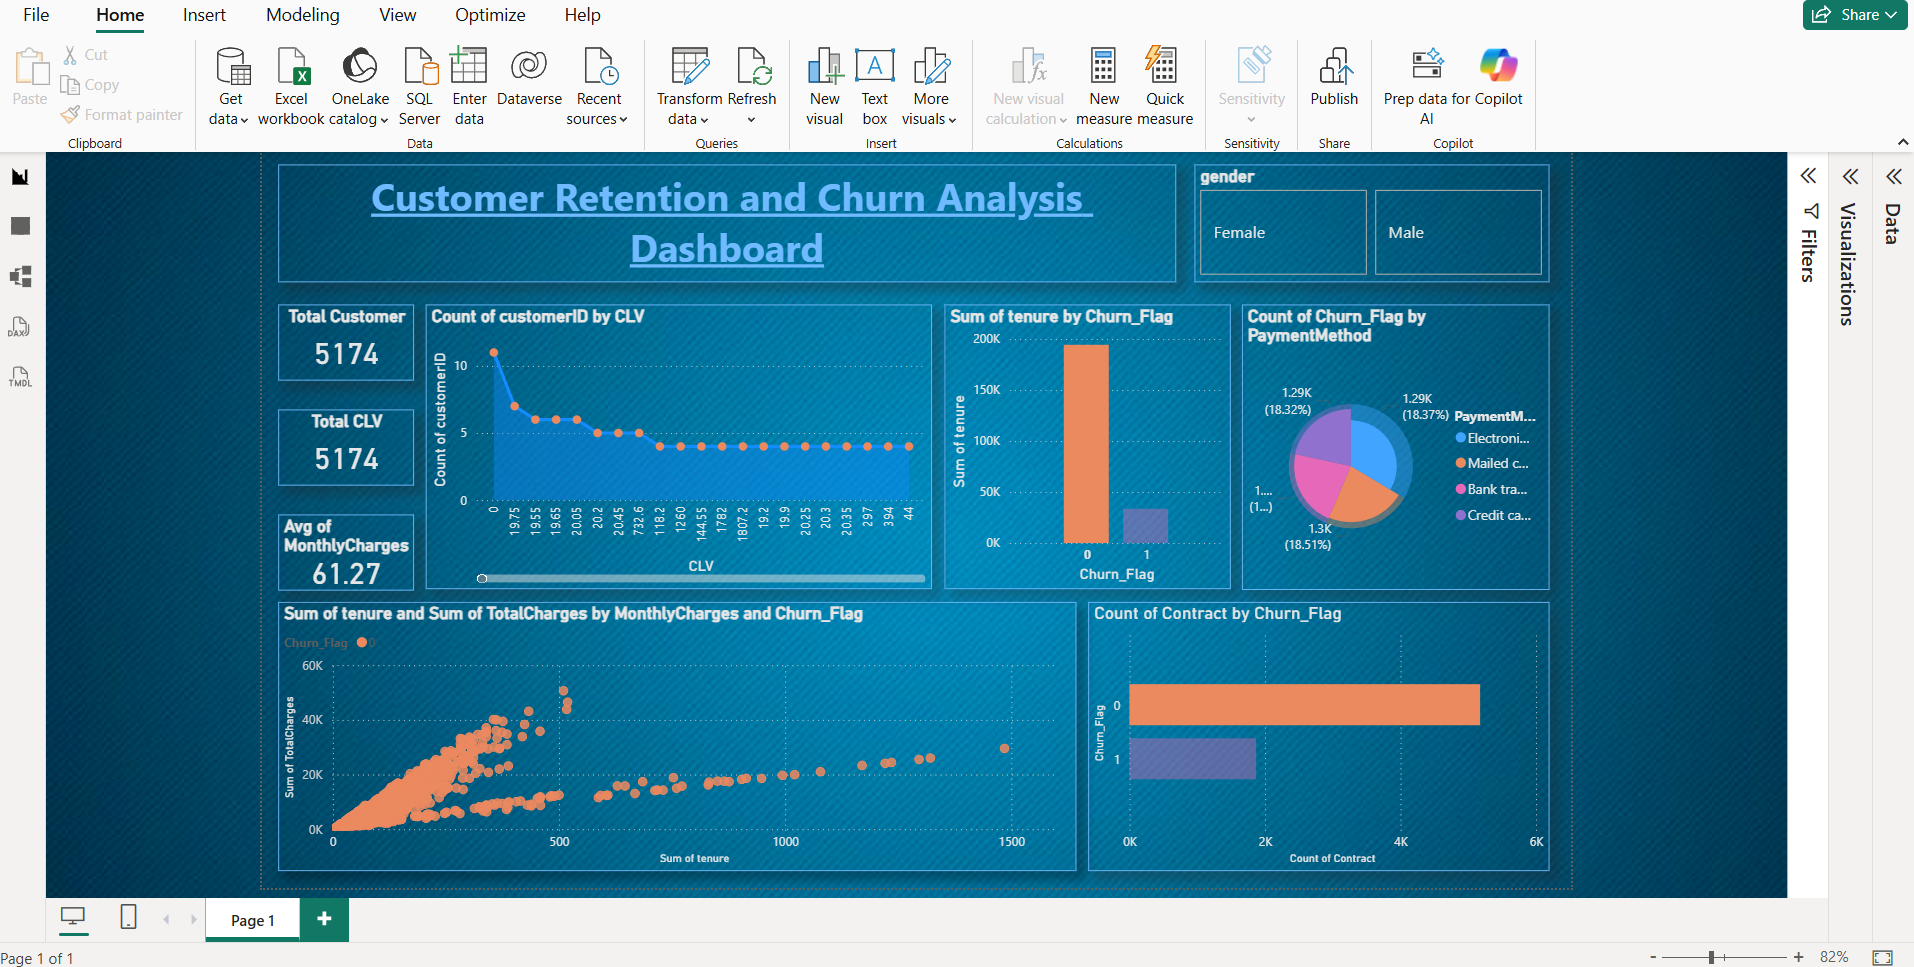

Layout of this report page (visuals, bound fields, positions):
{"tool":"powerbi","page":{"name":"Page 1","canvas":[1280,720],"ordinal":0},"visuals":[{"type":"clusteredColumnChart","fields":{"Category":["Customer_retention.Churn_Flag"],"Y":["Sum(Customer_retention.tenure)"]},"box":[668.3,149.6,279.9,278.6],"z":0},{"type":"pieChart","fields":{"Category":["Customer_retention.PaymentMethod"],"Y":["CountNonNull(Customer_retention.Churn_Flag)"]},"box":[958.7,149.2,300.8,278.8],"z":1000},{"type":"scatterChart","fields":{"X":["Sum(Customer_retention.tenure)"],"Y":["Sum(Customer_retention.TotalCharges)"],"Series":["Customer_retention.Churn_Flag"],"Category":["Customer_retention.MonthlyCharges"]},"box":[16.5,440.5,780.8,263.5],"z":2000},{"type":"clusteredBarChart","fields":{"Category":["Customer_retention.Churn_Flag"],"Y":["CountNonNull(Customer_retention.Contract)"]},"box":[808.2,440.5,451.5,263.5],"z":3000},{"type":"textbox","box":[16.5,12.3,878.2,115.3],"z":4000},{"type":"advancedSlicerVisual","fields":{"Values":["Customer_retention.gender"]},"box":[912.2,12.2,347.3,114.9],"z":5000},{"type":"card","title":"Total Customer","fields":{"Values":["CountNonNull(Customer_retention.customerID)"]},"box":[16.5,149.6,133.1,74.1],"z":6000},{"type":"card","title":"Total CLV","fields":{"Values":["CountNonNull(Customer_retention.CLV)"]},"box":[16.5,252.5,133.1,74.1],"z":7000},{"type":"card","title":"Avg of MonthlyCharges","fields":{"Values":["Avg(Customer_retention.MonthlyCharges)"]},"box":[16.5,354,133.1,74.1],"z":8000},{"type":"stackedAreaChart","fields":{"Category":["Customer_retention.CLV"],"Y":["CountNonNull(Customer_retention.customerID)"]},"box":[160.5,149.6,495.4,278.6],"z":9000}]}

Visuals, with their boxes on the page's 1280x720 design canvas (x1, y1, x2, y2). These are canvas units, not pixel positions in the 1914x967 screenshot, which may show the page scaled, cropped or inside an application window:
clusteredColumnChart - Customer_retention.Churn_Flag x Sum(Customer_retention.tenure): 668:150:948:428
pieChart - Customer_retention.PaymentMethod x CountNonNull(Customer_retention.Churn_Flag): 959:149:1260:428
scatterChart - Sum(Customer_retention.tenure) x Sum(Customer_retention.TotalCharges): 16:440:797:704
clusteredBarChart - Customer_retention.Churn_Flag x CountNonNull(Customer_retention.Contract): 808:440:1260:704
textbox: 16:12:895:128
advancedSlicerVisual - Customer_retention.gender: 912:12:1260:127
"Total Customer" card: 16:150:150:224
"Total CLV" card: 16:252:150:327
"Avg of MonthlyCharges" card: 16:354:150:428
stackedAreaChart - Customer_retention.CLV x CountNonNull(Customer_retention.customerID): 160:150:656:428
